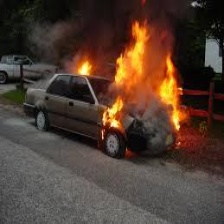fire: (100, 20, 188, 151), (77, 59, 94, 75)
smoke: (36, 6, 130, 53)
